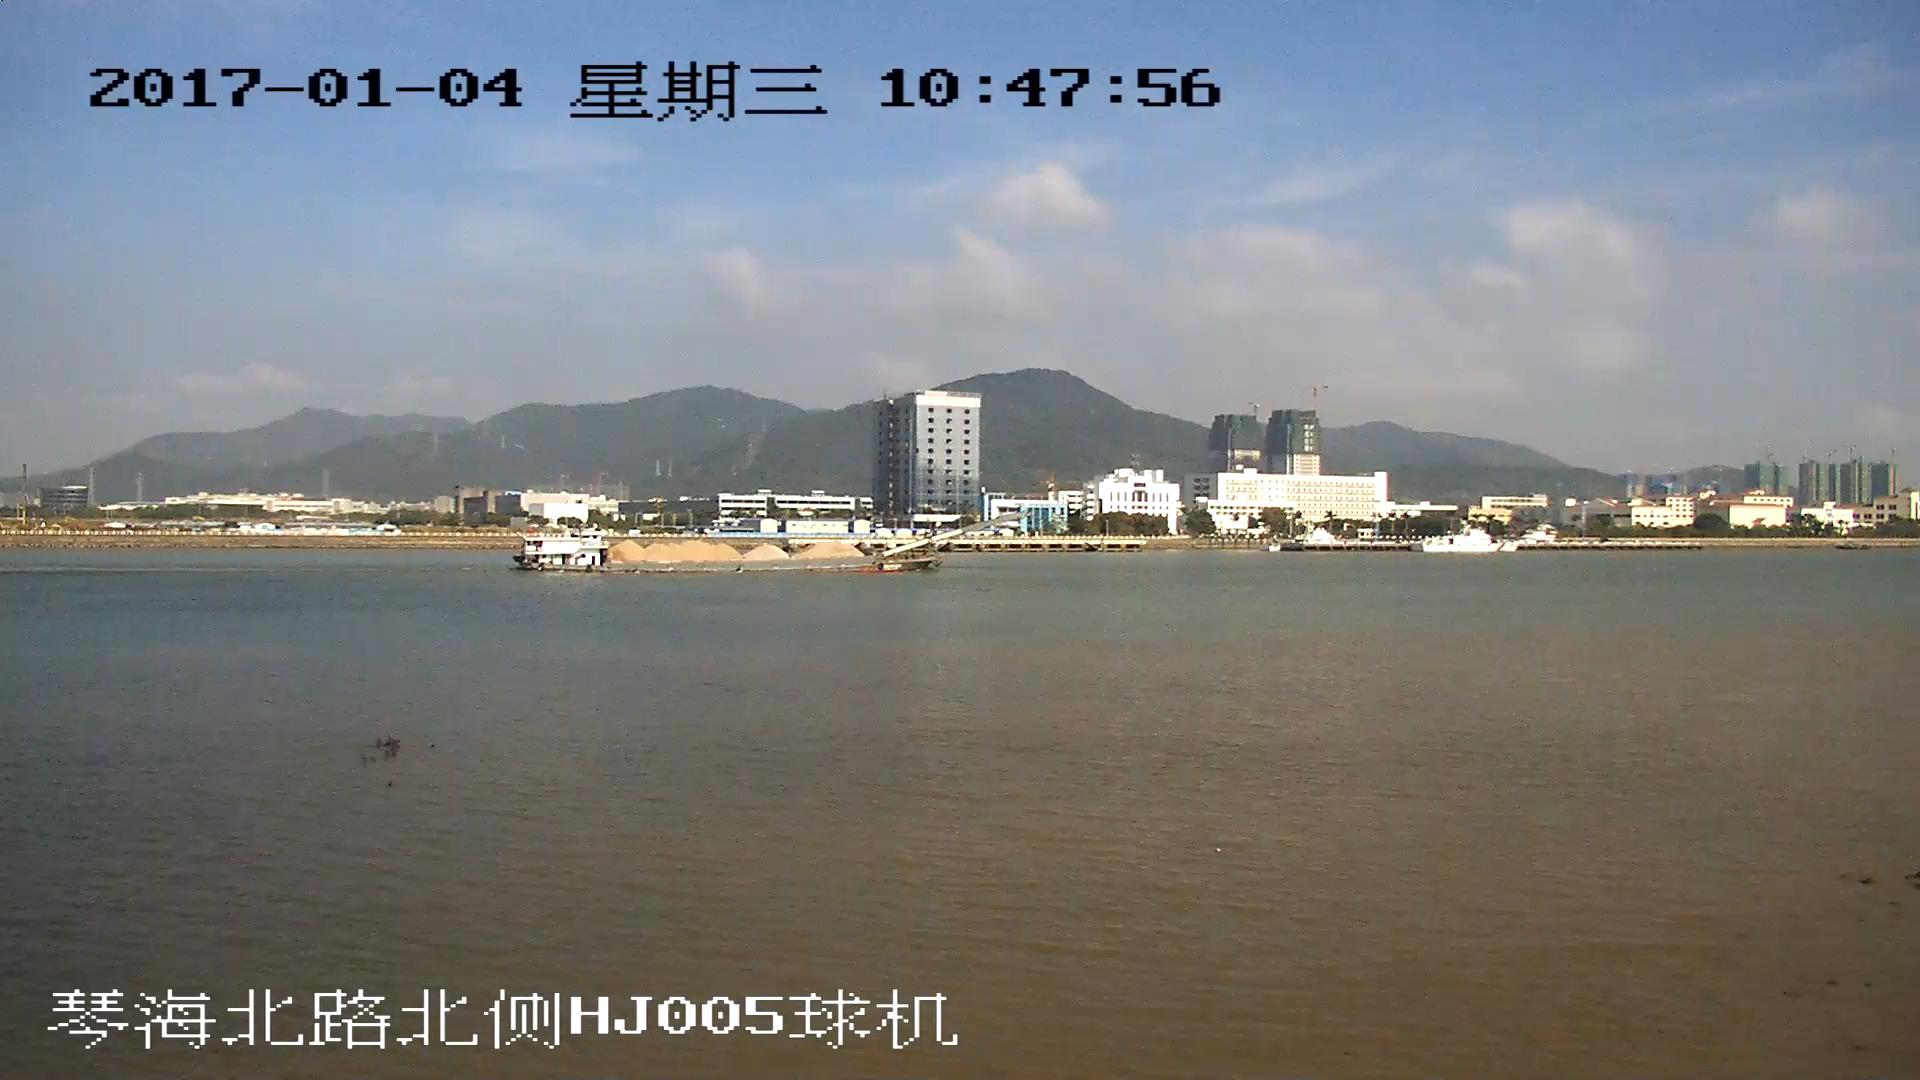ore carrier: (518, 512, 1017, 574)
